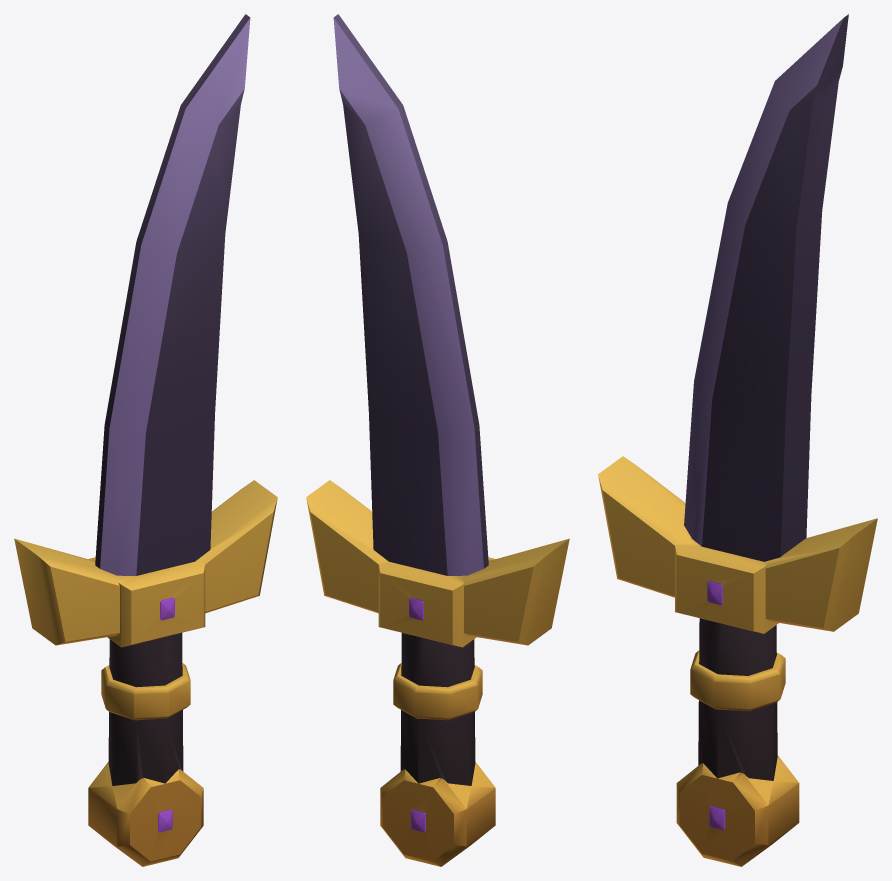
The model's file is dagger_fang.glb.
3 renders of one model, left to right at view 1: azimuth 30°, elevation 25°; view 2: azimuth 150°, elevation 25°; view 3: azimuth 330°, elevation 25°, orthographic. The views are drawn at different scales.
Parts seen in each view (by area): view 1: Item; view 2: Item; view 3: Item.
Part boxes in pixels (box(x1,y1,x2,y2)): Item: box(14, 14, 277, 866); Item: box(306, 14, 569, 866); Item: box(598, 14, 877, 866).
Size of the model in its own units: 0.4 by 1.29 by 0.1384.
Materials: 3 (3 with a texture image).
